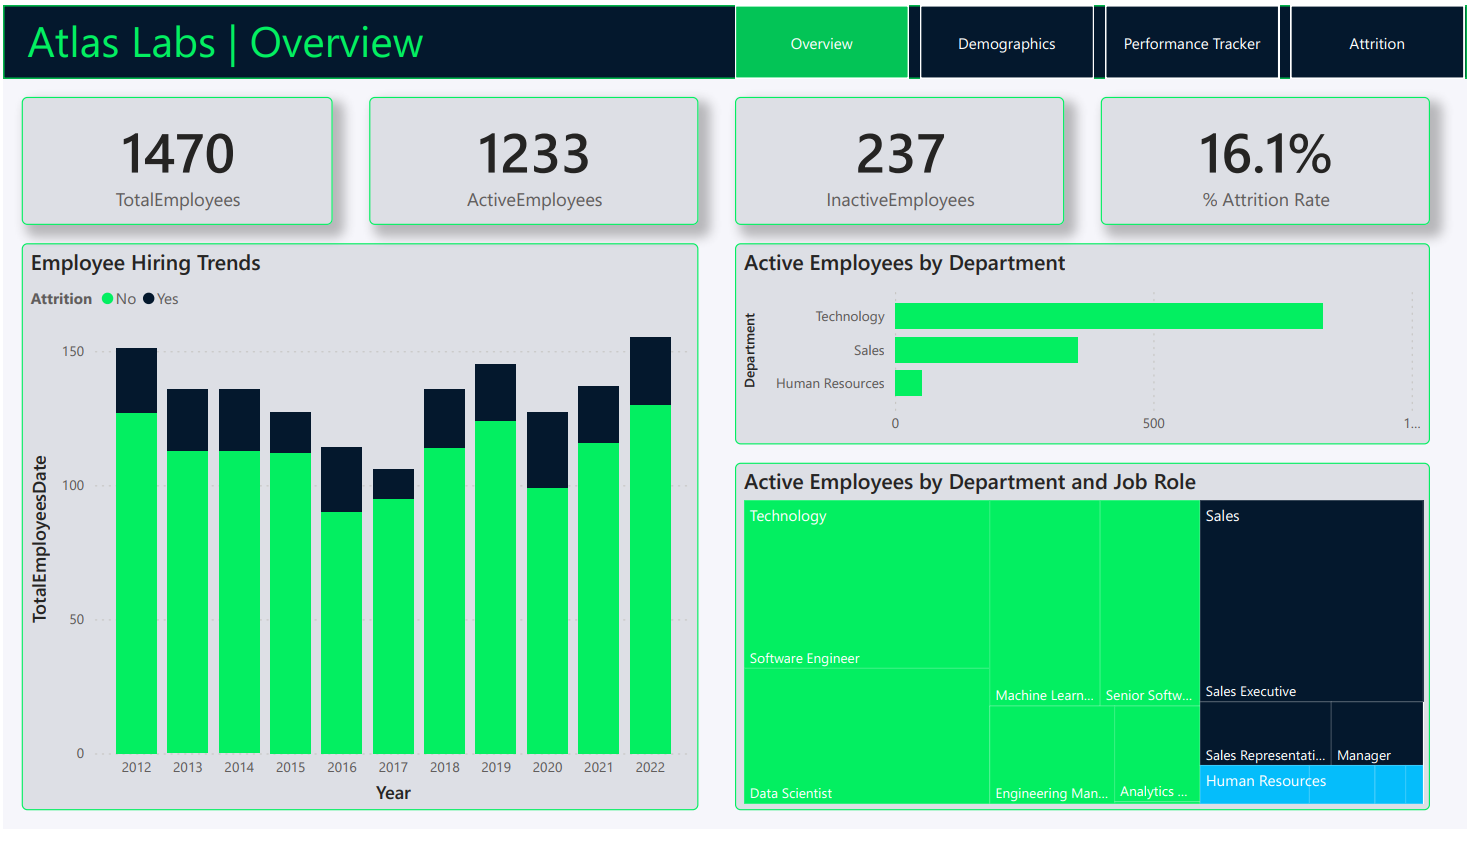

The page's visual inventory and layout, read from the dashboard file:
{"tool":"powerbi","page":{"name":"Overview","canvas":[1280,720],"ordinal":0},"visuals":[{"type":"card","fields":{"Values":["_Measures.TotalEmployees"]},"box":[16,80,272,112],"z":0},{"type":"card","fields":{"Values":["_Measures.ActiveEmployees"]},"box":[320,80,288,112],"z":1000},{"type":"card","fields":{"Values":["_Measures.InactiveEmployees"]},"box":[640,80,288,112],"z":2000},{"type":"card","fields":{"Values":["_Measures.% Attrition Rate"]},"box":[960,80,288,112],"z":3000},{"type":"columnChart","title":"Employee Hiring Trends","fields":{"Category":["DimDate.Date.Variation.Date Hierarchy.Year","DimDate.Date.Variation.Date Hierarchy.Quarter","DimDate.Date.Variation.Date Hierarchy.Month","DimDate.Date.Variation.Date Hierarchy.Day"],"Y":["_Measures.TotalEmployeesDate"],"Series":["DimEmployee.Attrition"]},"box":[16,208,592,496],"z":4000},{"type":"clusteredBarChart","title":"Active Employees by Department","fields":{"Category":["DimEmployee.Department"],"Y":["_Measures.ActiveEmployees"]},"box":[640,208,608,176],"z":5000},{"type":"treemap","title":"Active Employees by Department and Job Role","fields":{"Values":["_Measures.ActiveEmployees"],"Group":["DimEmployee.Department"],"Details":["DimEmployee.JobRole"]},"box":[640,400,608,304],"z":6000},{"type":"shape","box":[0,0,1280,64],"z":7000},{"type":"textbox","box":[16,0,448,64],"z":8000},{"type":"pageNavigator","box":[640.3,0,640.3,64.3],"z":9000}]}

Visuals, with their boxes in screenshot pixels (x1, y1, x2, y2), scaled from the page's 1280x720 canvas onto the 1475x845 screenshot:
card - _Measures.TotalEmployees: <box>18,94,332,225</box>
card - _Measures.ActiveEmployees: <box>369,94,701,225</box>
card - _Measures.InactiveEmployees: <box>738,94,1069,225</box>
card - _Measures.% Attrition Rate: <box>1106,94,1438,225</box>
"Employee Hiring Trends" columnChart: <box>18,244,701,826</box>
"Active Employees by Department" clusteredBarChart: <box>738,244,1438,451</box>
"Active Employees by Department and Job Role" treemap: <box>738,469,1438,826</box>
shape: <box>0,0,1474,75</box>
textbox: <box>18,0,535,75</box>
pageNavigator: <box>738,0,1474,75</box>
